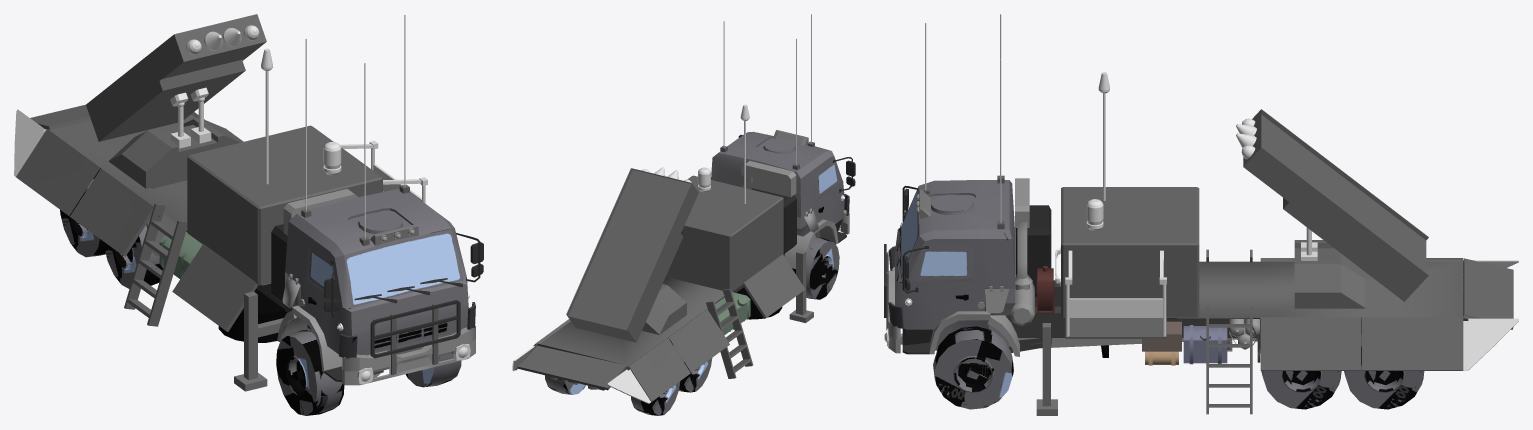
File: cracked ladder only.fbx
The picture shows the model from 3 angles, left to right: view 1: azimuth 30°, elevation 25°; view 2: azimuth 150°, elevation 25°; view 3: azimuth 270°, elevation 25°; orthographic projection. The views are drawn at different scales.
Visible parts, largest first — view 1: Куб.131, Куб.136, Cube, Cube.002, Цилиндр.051, Cube.001, Cube.008, Куб.096, Cube.016, Cube.007, Цилиндр.053, Cube.011 (+17 smaller); view 2: Куб.136, Cube.002, Cube, Куб.131, Цилиндр.051, Cube.008, Цилиндр.059, Cube.001, Цилиндр.001, Cube.015, Cube.016, Cube.011 (+6 smaller); view 3: Куб.136, Cube, Куб.131, Cube.002, Цилиндр.051, Cube.001, Цилиндр.001, Цилиндр.053, Цилиндр.059, Куб.118, Cube.018, Cube.015 (+12 smaller).
Boxes of the visible parts, bbox=[...] form: Куб.131: bbox=[285, 188, 475, 372]; Куб.136: bbox=[16, 104, 270, 331]; Cube: bbox=[187, 125, 382, 285]; Cube.002: bbox=[86, 14, 266, 141]; Цилиндр.051: bbox=[276, 329, 461, 415]; Cube.001: bbox=[108, 118, 243, 188]; Cube.008: bbox=[124, 203, 187, 326]; Куб.096: bbox=[342, 325, 475, 385]; Cube.016: bbox=[234, 291, 283, 391]; Cube.007: bbox=[370, 300, 460, 358]; Цилиндр.053: bbox=[103, 225, 163, 288]; Cube.011: bbox=[14, 109, 45, 176]; Куб.136: bbox=[515, 254, 805, 401]; Cube.002: bbox=[566, 168, 698, 342]; Cube: bbox=[666, 175, 783, 291]; Куб.131: bbox=[711, 131, 849, 237]; Цилиндр.051: bbox=[792, 237, 839, 299]; Cube.008: bbox=[706, 289, 753, 378]; Цилиндр.059: bbox=[740, 161, 796, 197]; Cube.001: bbox=[642, 284, 686, 334]; Цилиндр.001: bbox=[545, 375, 680, 415]; Cube.015: bbox=[751, 188, 796, 253]; Cube.016: bbox=[789, 250, 813, 323]; Cube.011: bbox=[607, 369, 650, 403]; Куб.136: bbox=[1065, 258, 1513, 370]; Cube: bbox=[1061, 187, 1199, 317]; Куб.131: bbox=[888, 180, 1014, 350]; Cube.002: bbox=[1243, 109, 1428, 301]; Цилиндр.051: bbox=[933, 326, 1013, 409]; Cube.001: bbox=[1294, 240, 1365, 308]; Цилиндр.001: bbox=[1344, 334, 1424, 409]; Цилиндр.053: bbox=[1261, 371, 1341, 409]; Цилиндр.059: bbox=[1009, 178, 1034, 325]; Куб.118: bbox=[1006, 280, 1468, 352]; Cube.018: bbox=[1068, 298, 1163, 317]; Cube.015: bbox=[1015, 205, 1051, 296].
Size of the model in its own units: 719 by 1202 by 2029.
66 materials, 2 textured.
